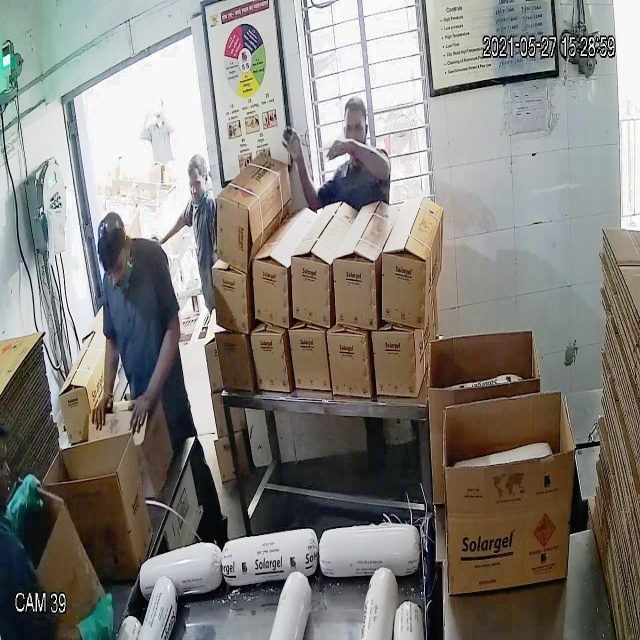Sin_gafas: (96, 251, 130, 282), (338, 115, 368, 142)
